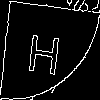H: (25, 24, 64, 76)
